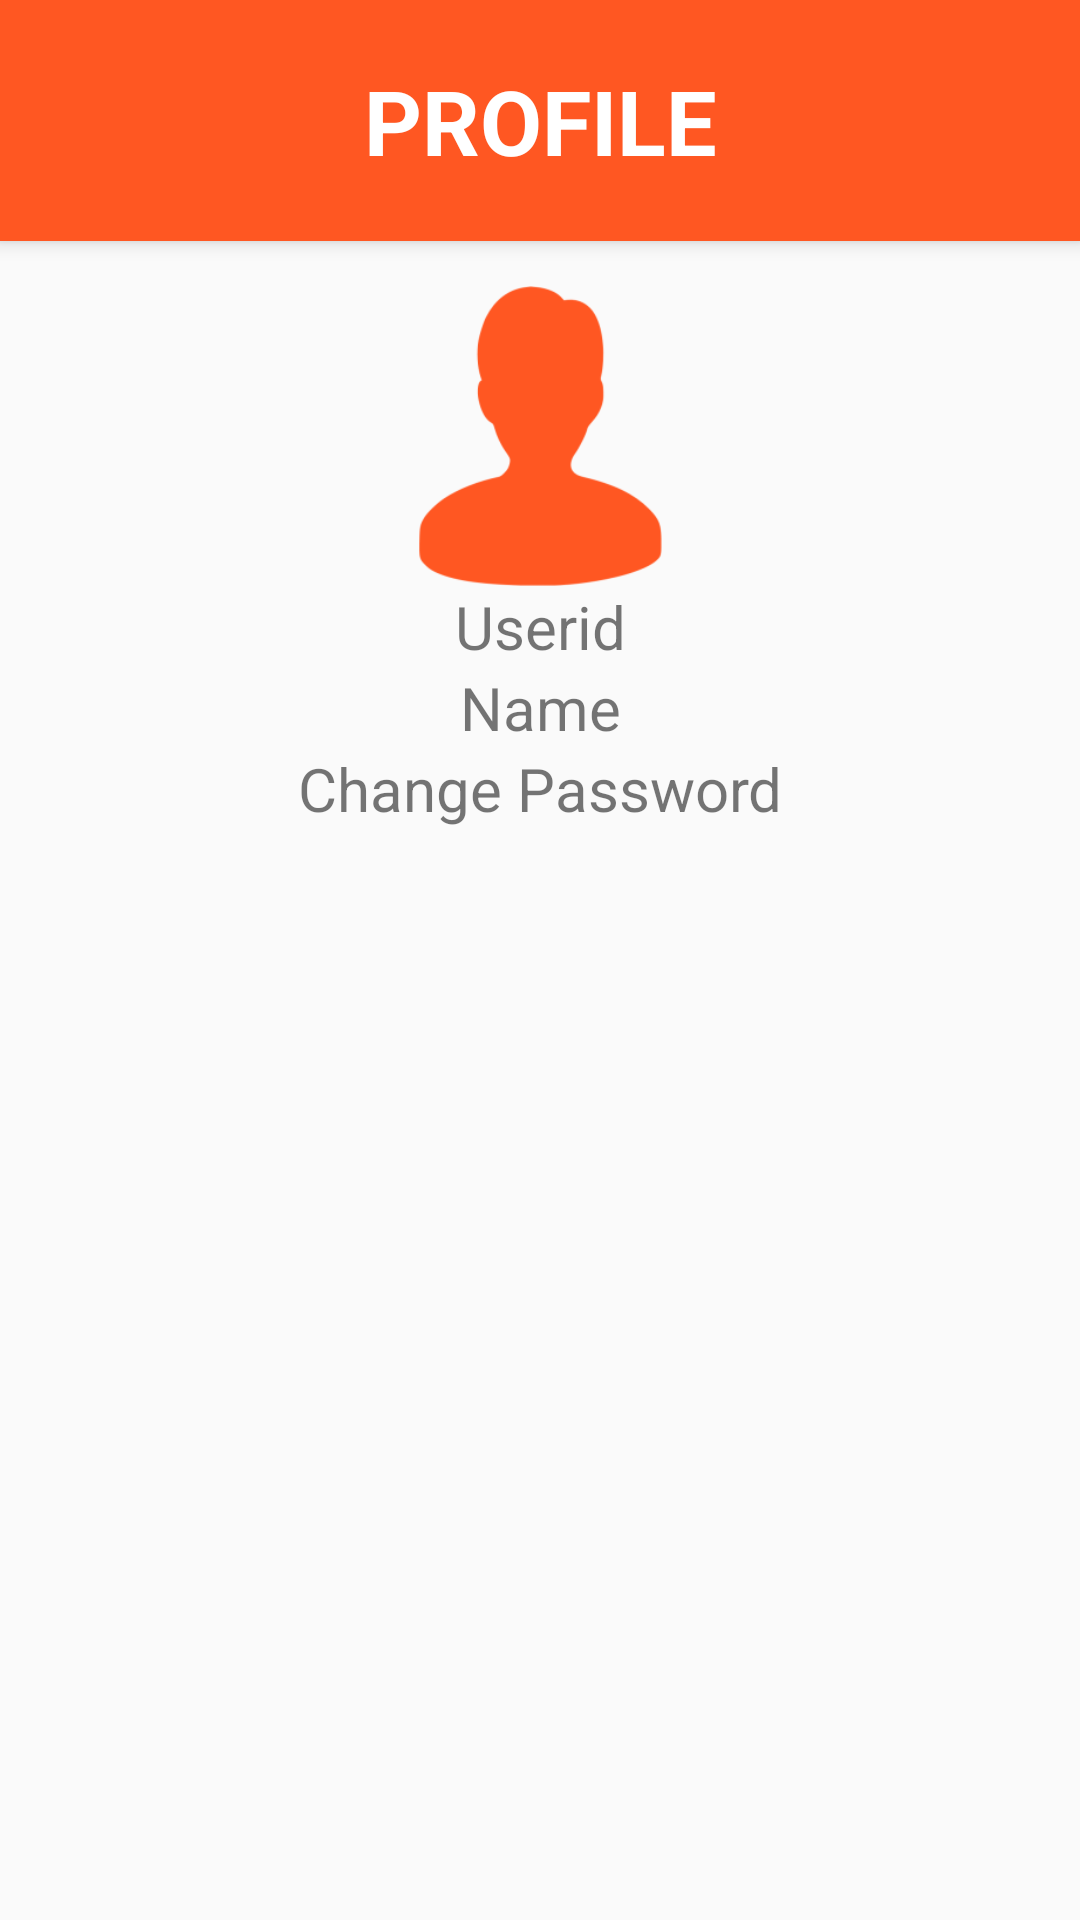

Icons on this 1080 × 1920 Android screen, each with its box as rect(x1, y1, x2, y2):
guest: rect(419, 286, 662, 586)
